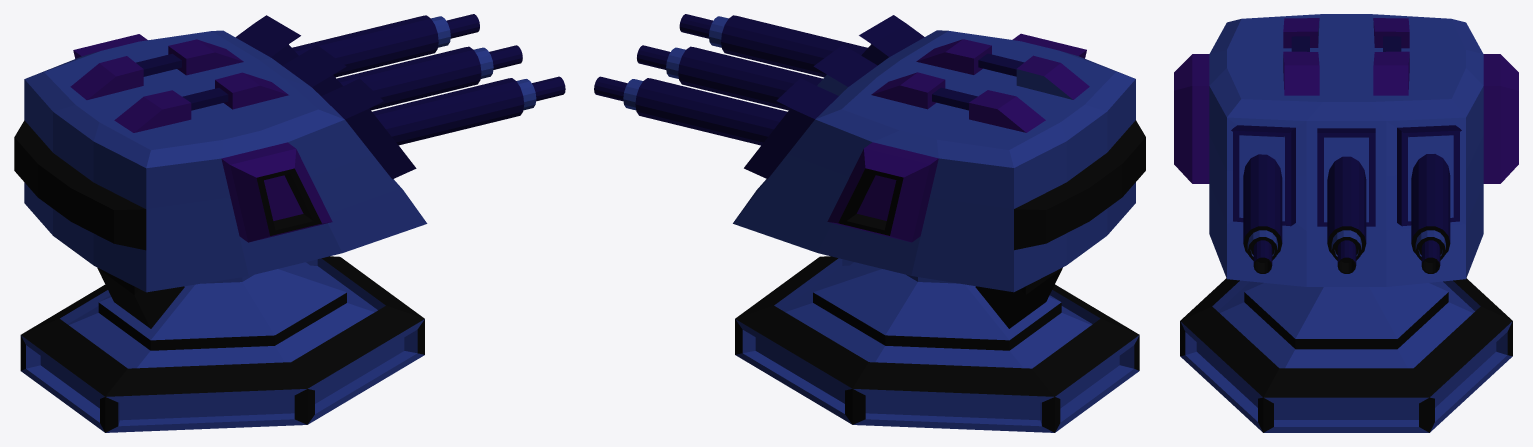
The model's file is torreta triple.fbx.
3 renders of one model, left to right at view 1: azimuth 30°, elevation 25°; view 2: azimuth 150°, elevation 25°; view 3: azimuth 270°, elevation 25°, orthographic.
Parts seen in each view (by area): view 1: Cylinder, Cylinder.001; view 2: Cylinder, Cylinder.001; view 3: Cylinder, Cylinder.001.
Boxes of the visible parts, x1,y1,x2,y2 form: Cylinder: (14,14,565,292); Cylinder.001: (20,256,424,432); Cylinder: (594,14,1145,292); Cylinder.001: (735,256,1139,432); Cylinder: (1174,14,1518,286); Cylinder.001: (1180,278,1512,432).
Size of the model in its own units: 581 by 358 by 380.
